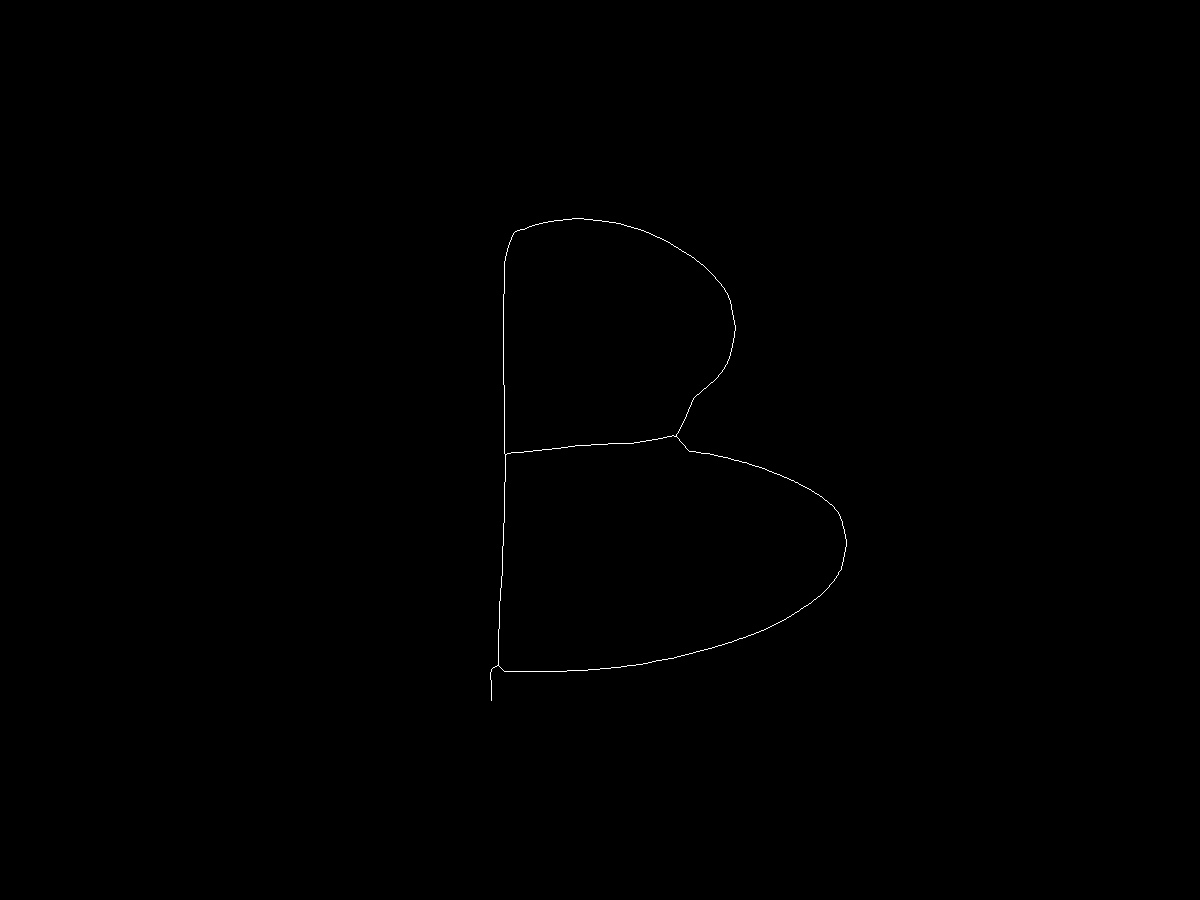dian1: (507, 221, 534, 248)
dian2: (491, 441, 515, 465)
dian3: (486, 657, 503, 674)
dian4: (670, 428, 688, 446)
